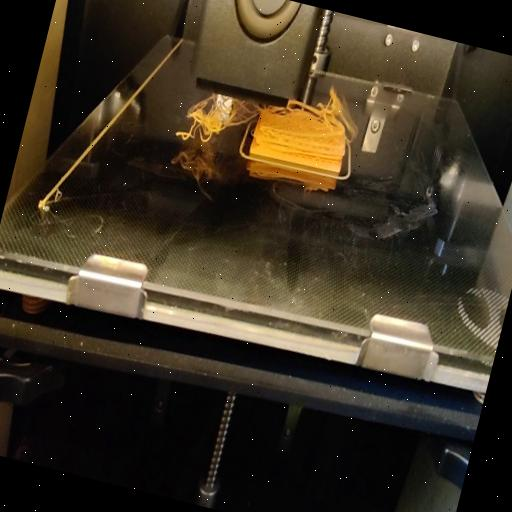spaghetti: (176, 88, 257, 154)
